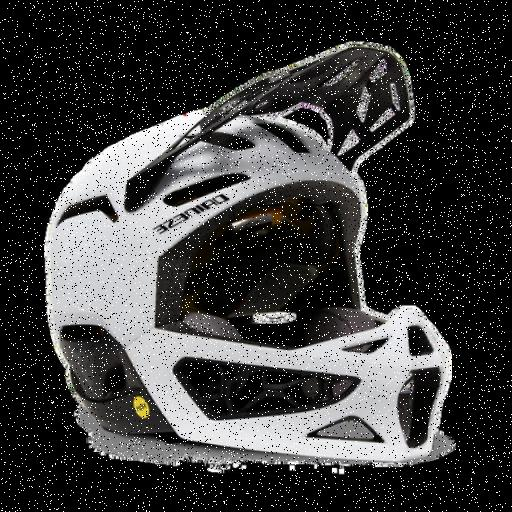Helmet: (46, 44, 450, 461)
